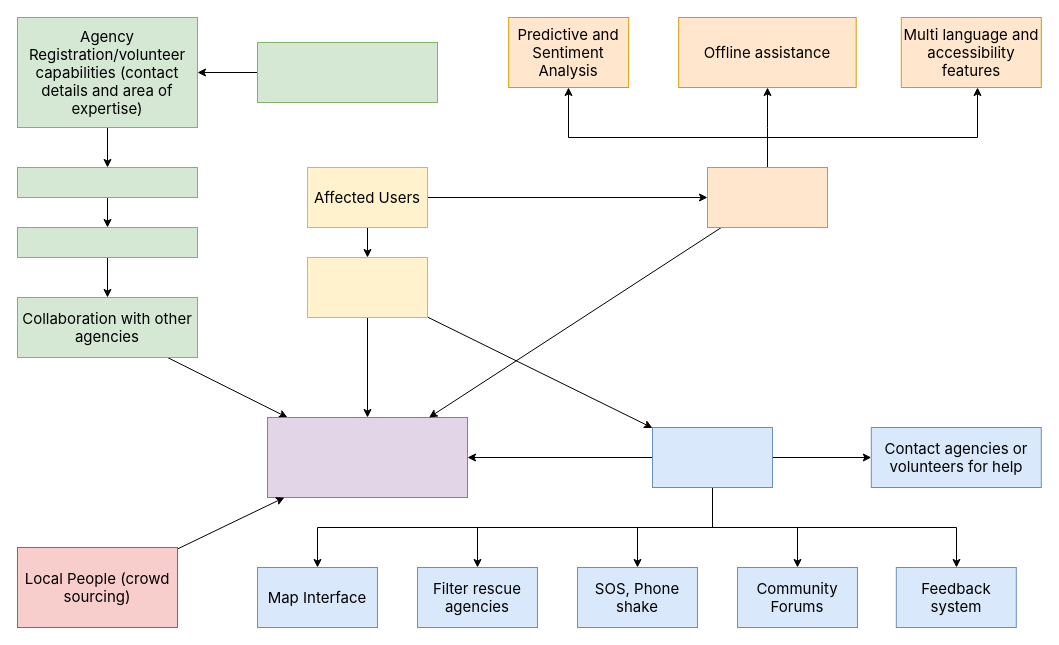
The diagram is 1059 pixels wide and 645 high, and some of its shapes have lost their labels. Each missing label, with the centre of its shape:
"AI Chatbot" goes at point 767,197.
"Dashboard" goes at point 712,457.
"Database (agency data, user data disaster data)" goes at point 367,457.
"Location Tracking" goes at point 107,242.
"Register/Login" goes at point 367,287.
"Rescue Agencies/volunteers" goes at point 347,72.
"Verification" goes at point 107,182.
